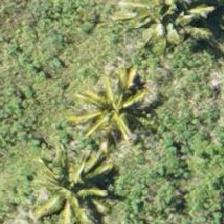coconut_tree: (66, 51, 156, 141), (24, 129, 114, 219), (122, 0, 212, 61)
